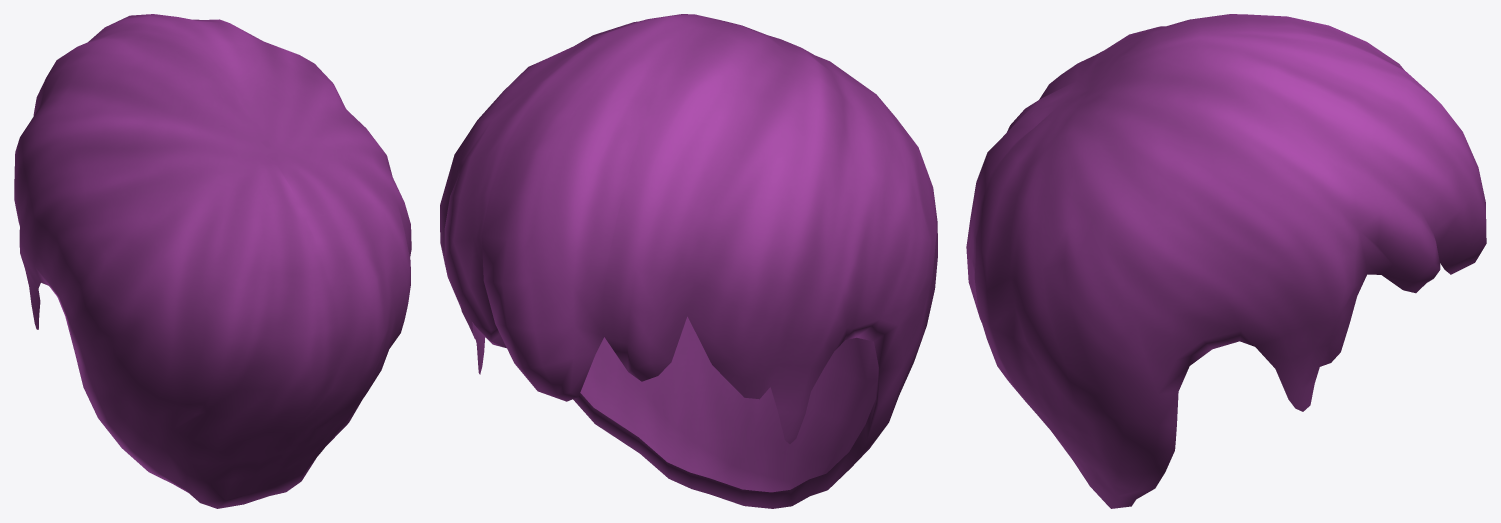
The model's file is Hair_Male_001_textured_purple.glb.
The picture shows the model from 3 angles, left to right: view 1: azimuth 30°, elevation 25°; view 2: azimuth 150°, elevation 25°; view 3: azimuth 270°, elevation 25°; orthographic projection. The views are drawn at different scales.
Visible parts, largest first — view 1: Hair_Male_001; view 2: Hair_Male_001; view 3: Hair_Male_001.
Boxes of the visible parts, x1,y1,x2,y2 form: Hair_Male_001: [14, 14, 411, 508]; Hair_Male_001: [440, 14, 937, 508]; Hair_Male_001: [966, 14, 1486, 508].
Bounding box in the file's own units: 0.189 × 0.2389 × 0.2448.
1 material, 1 textured.
